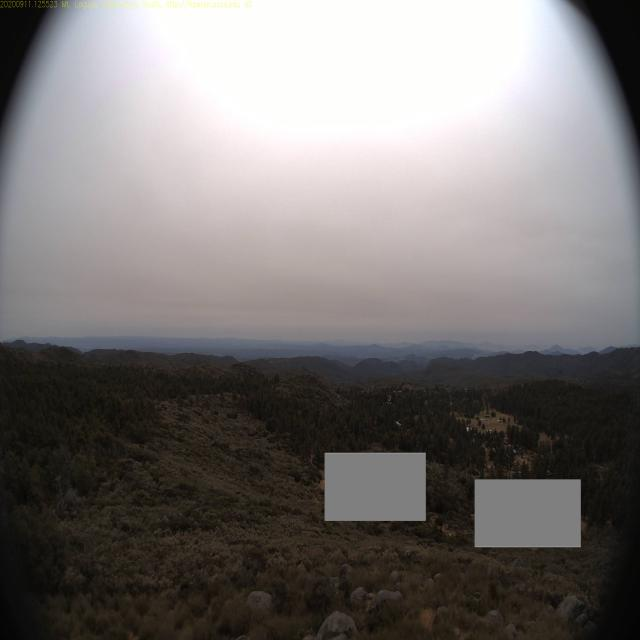smoke: (470, 346, 494, 364)
